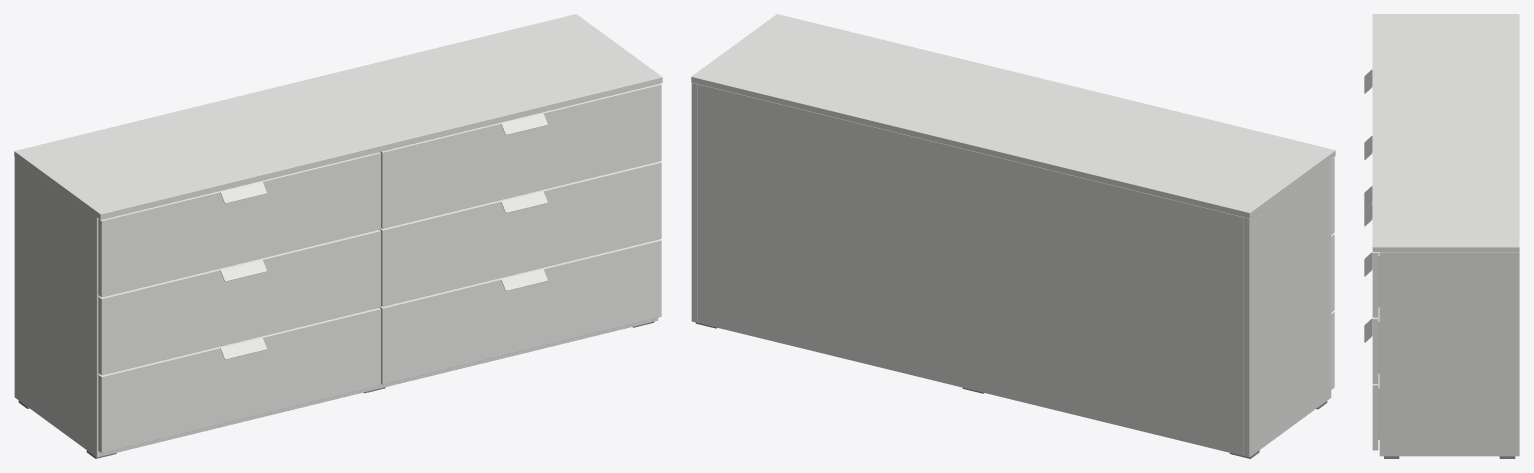
The model's file is dresser-12-brooklyn-six-drawer.glb.
3 views of the same model, side by side, from view 1: azimuth 30°, elevation 25°; view 2: azimuth 150°, elevation 25°; view 3: azimuth 270°, elevation 25° (orthographic). The views are drawn at different scales.
Visible parts, largest first — view 1: Panel_Top_Tile_ccc, Drawer_04_Front_Core_Tile_ccc, Drawer_05_Front_Core_Tile_ccc, Drawer_06_Front_Core_Tile_ccc, Drawer_03_Front_Core_Tile_ccc, Drawer_02_Front_Core_Tile_ccc, Drawer_01_Front_Core_Tile_ccc, Panel_Side_Left_Tile_ccc, Panel_Top_Tile_ccp, Panel_Bottom_Tile_ccp, Panel_Side_Left_Tile_ccp, Drawer_01_Front_Core_Tile_cpc (+3 smaller); view 2: Panel_Back_Tile_ccc, Panel_Top_Tile_ccc, Panel_Side_Left_Tile_ccc, Panel_Top_Tile_ccm, Panel_Side_Right_Tile_ccm, Panel_Side_Left_Tile_ccm; view 3: Panel_Top_Tile_ccc, Panel_Side_Right_Tile_ccc, Panel_Top_Tile_pcc, Drawer_05_Front_Core_Tile_pcc, Drawer_04_Front_Core_Tile_pcc, Drawer_06_Front_Core_Tile_pcc, Panel_Top_Tile_ccm, Panel_Top_Tile_ccp, Panel_Side_Right_Tile_ccm.
Part boxes in pixels (<box>): Panel_Top_Tile_ccc: <box>15,14,661,213</box>; Drawer_04_Front_Core_Tile_ccc: <box>382,240,661,384</box>; Drawer_05_Front_Core_Tile_ccc: <box>382,162,661,306</box>; Drawer_06_Front_Core_Tile_ccc: <box>382,84,661,228</box>; Drawer_03_Front_Core_Tile_ccc: <box>102,153,380,296</box>; Drawer_02_Front_Core_Tile_ccc: <box>102,231,380,374</box>; Drawer_01_Front_Core_Tile_ccc: <box>102,309,380,452</box>; Panel_Side_Left_Tile_ccc: <box>14,157,96,456</box>; Panel_Top_Tile_ccp: <box>100,77,662,219</box>; Panel_Bottom_Tile_ccp: <box>102,319,652,455</box>; Panel_Side_Left_Tile_ccp: <box>96,217,102,457</box>; Drawer_01_Front_Core_Tile_cpc: <box>99,308,380,376</box>; Panel_Back_Tile_ccc: <box>697,84,1243,455</box>; Panel_Top_Tile_ccc: <box>692,14,1334,212</box>; Panel_Side_Left_Tile_ccc: <box>1249,159,1331,456</box>; Panel_Top_Tile_ccm: <box>691,77,1249,218</box>; Panel_Side_Right_Tile_ccm: <box>691,83,697,322</box>; Panel_Side_Left_Tile_ccm: <box>1244,217,1249,457</box>; Panel_Top_Tile_ccc: <box>1373,14,1519,246</box>; Panel_Side_Right_Tile_ccc: <box>1379,252,1519,456</box>; Panel_Top_Tile_pcc: <box>1373,247,1519,251</box>; Drawer_05_Front_Core_Tile_pcc: <box>1372,319,1378,383</box>; Drawer_04_Front_Core_Tile_pcc: <box>1372,385,1378,449</box>; Drawer_06_Front_Core_Tile_pcc: <box>1372,253,1378,317</box>; Panel_Top_Tile_ccm: <box>1519,14,1519,246</box>; Panel_Top_Tile_ccp: <box>1372,14,1372,246</box>; Panel_Side_Right_Tile_ccm: <box>1519,252,1519,455</box>.
Bounding box in the file's own units: 1.6 × 0.68 × 0.45.
Materials: 191 (189 with a texture image).
